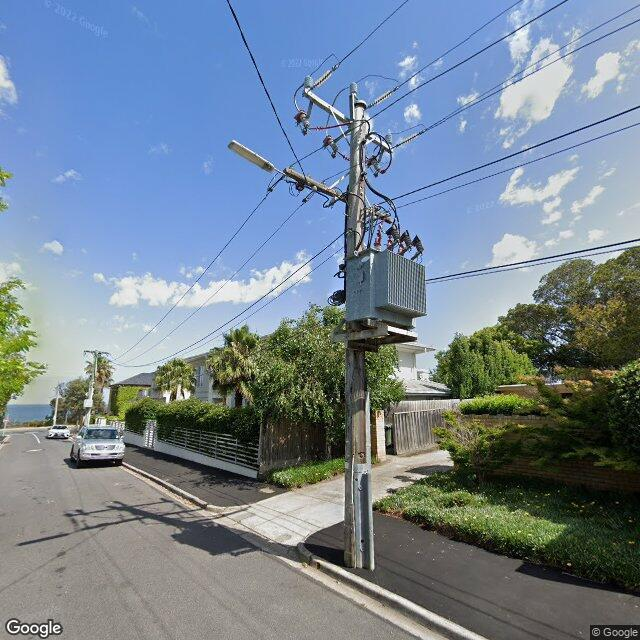HV-transmission: (294, 59, 424, 179)
crossarm: (266, 167, 394, 225), (305, 90, 393, 151), (84, 350, 110, 355)
streetlight: (227, 140, 284, 178)
timber-pole: (346, 100, 375, 570), (94, 350, 98, 381)
transformer: (345, 226, 427, 344)
